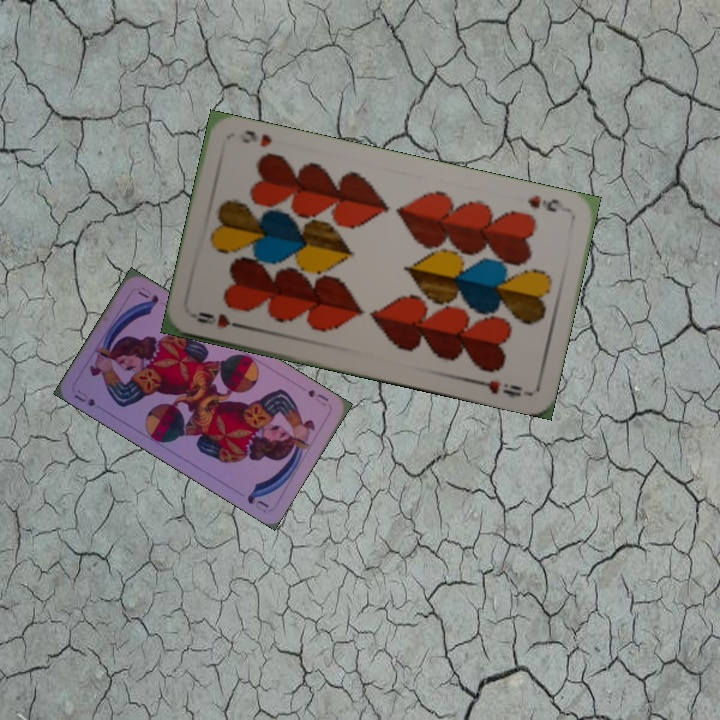H9: (193, 308, 248, 331), (524, 191, 571, 215)
SU: (70, 385, 98, 409), (304, 385, 331, 404)
